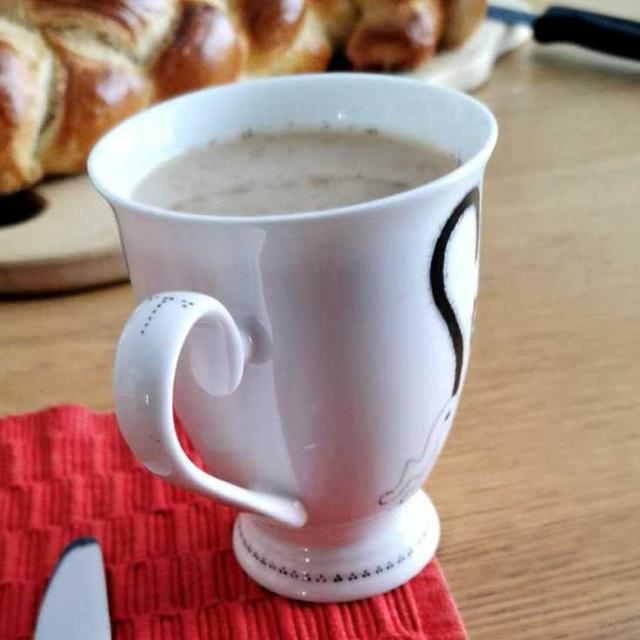tea: (141, 125, 440, 216)
